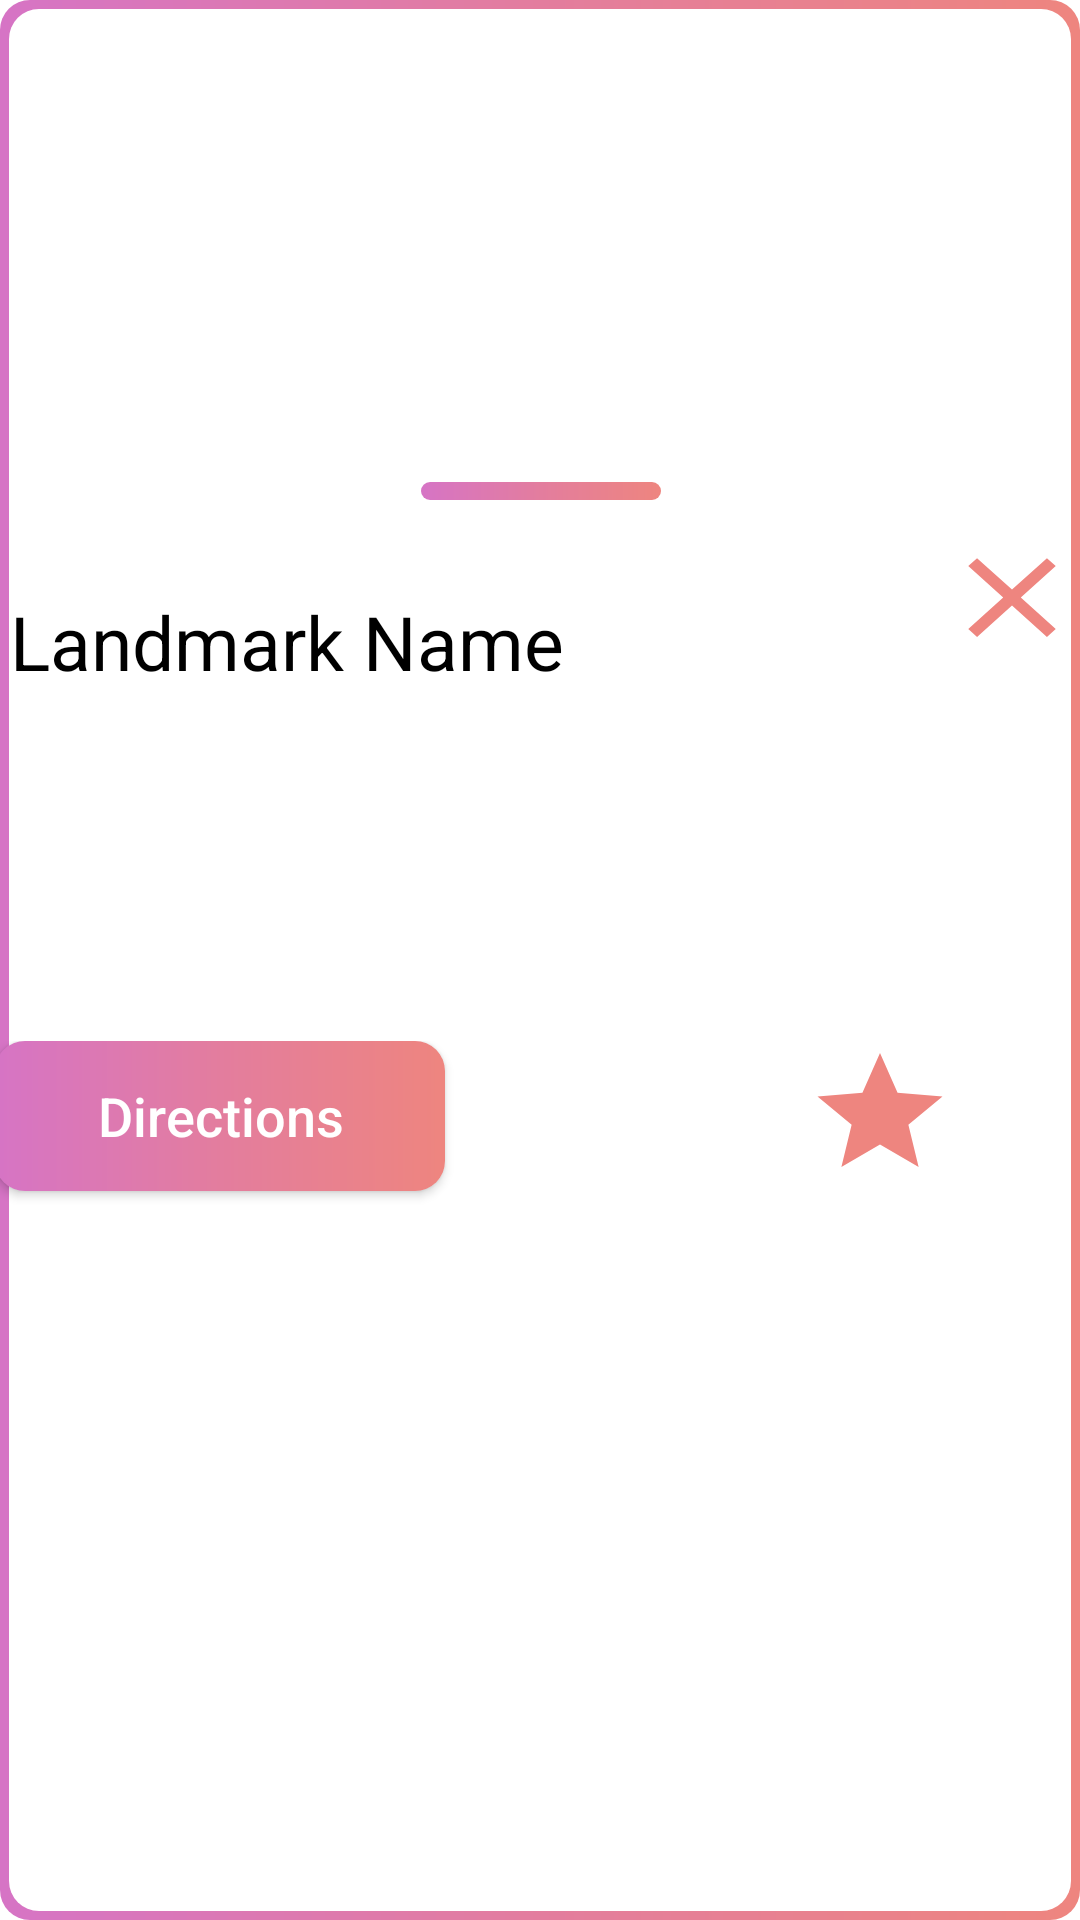

Locate icon controls on the screen. Image size 1080×1920, boxes as (x1, y1, x2, y2).
close: (968, 558, 1056, 637)
star: (818, 1053, 942, 1167)
